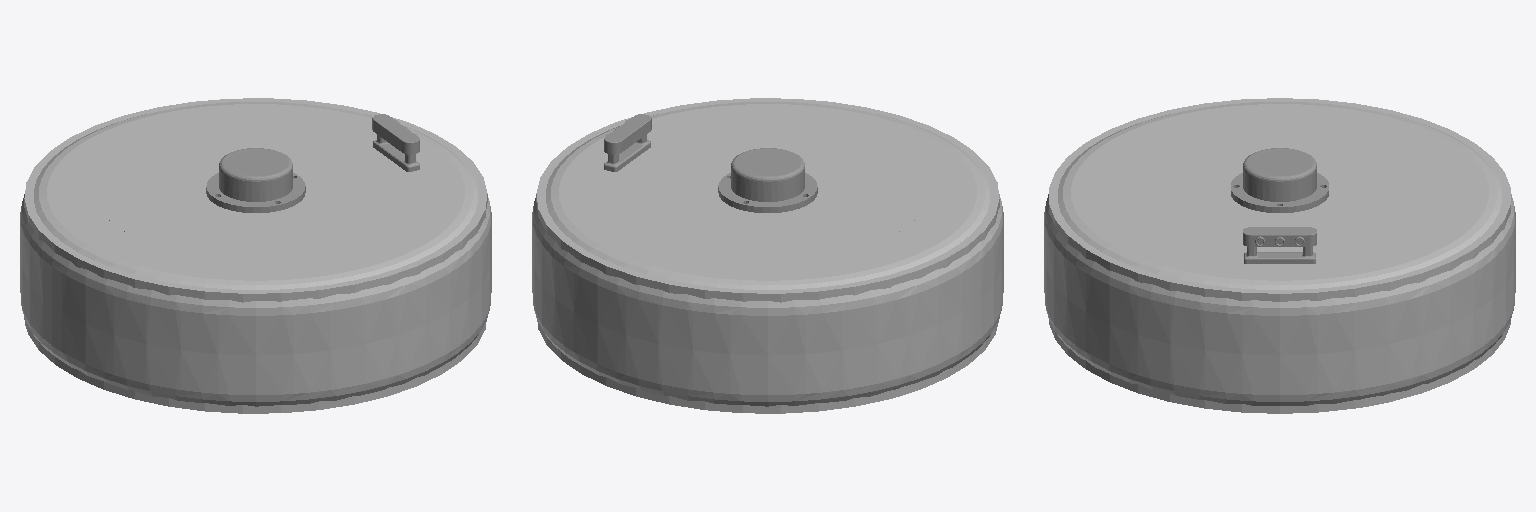
URDF robot description (rbot):
<?xml version="1.0" encoding="utf-8"?>
<!-- This URDF was automatically created by SolidWorks to URDF Exporter! Originally created by [author] ([email redacted]) 
     Commit Version: 1.6.0-4-g7f85cfe  Build Version: 1.6.7995.38578
     For more information, please see http://wiki.ros.org/sw_urdf_exporter -->
<robot
  name="rbot">
  <gazebo>
    <plugin name="gazebo_ros_control" filename="libgazebo_ros_control.so">
    <robotNamespace>rbot</robotNamespace>
    </plugin>
</gazebo>  
  <link
    name="base_link">
    <inertial>
      <origin
        xyz="0.0187713301733383 0.00149159482682281 0.0408186220208823"
        rpy="0 0 0" />
      <mass
        value="1.19458055963595" />
      <inertia
        ixx="0.0088375951796162"
        ixy="-0.000201968732235839"
        ixz="-6.70047790241051E-05"
        iyy="0.00862876123333175"
        iyz="3.90017332556839E-06"
        izz="0.0169575736226933" />
    </inertial>
    <visual>
      <origin
        xyz="0 0 0"
        rpy="0 0 0" />
      <geometry>
        <mesh
          filename="package://rbot/meshes/mainBody.STL" />
      </geometry>
      <material
        name="">
        <color
          rgba="0.752941176470588 0.752941176470588 0.752941176470588 1" />
      </material>
    </visual>
    <collision>
      <origin
        xyz="0 0 0"
        rpy="0 0 0" />
      <geometry>
        <mesh
          filename="package://rbot/meshes/base_link.STL" />
      </geometry>
    </collision>
  </link>
  <link
    name="fWheel">
    <inertial>
      <origin
        xyz="1.38777878078145E-17 -0.000452842875220746 1.73472347597681E-18"
        rpy="0 0 0" />
      <mass
        value="0.0194386045440868" />
      <inertia
        ixx="3.22964315081443E-06"
        ixy="-3.41901319855251E-23"
        ixz="1.93253301781969E-22"
        iyy="6.13530955922741E-06"
        iyz="-8.54753299638127E-24"
        izz="3.22964315081443E-06" />
    </inertial>
    <visual>
      <origin
        xyz="0 0 0"
        rpy="0 0 0" />
      <geometry>
        <mesh
          filename="package://rbot/meshes/fWheel.STL" />
      </geometry>
      <material
        name="">
        <color
          rgba="0.792156862745098 0.819607843137255 0.933333333333333 1" />
      </material>
    </visual>
    <collision>
      <origin
        xyz="0 0 0"
        rpy="0 0 0" />
      <geometry>
        <mesh
          filename="package://rbot/meshes/fWheel.STL" />
      </geometry>
    </collision>
  </link>
  <joint
    name="fWheel_bc"
    type="continuous">
    <origin
      xyz="0.118393751374048 0 0.008"
      rpy="0 0 0" />
    <parent
      link="base_link" />
    <child
      link="fWheel" />
    <axis
      xyz="0 -1 0" />
  </joint>
  <link
    name="r_rWheel">
    <inertial>
      <origin
        xyz="-1.38777878078145E-17 -0.01 1.04083408558608E-17"
        rpy="0 0 0" />
      <mass
        value="0.0561559686829175" />
      <inertia
        ixx="1.45947022774874E-05"
        ixy="-1.38966342908909E-22"
        ixz="-1.03404523593804E-21"
        iyy="2.5445673309447E-05"
        iyz="-1.37863435425505E-22"
        izz="1.45947022774874E-05" />
    </inertial>
    <visual>
      <origin
        xyz="0 0 0"
        rpy="0 0 0" />
      <geometry>
        <mesh
          filename="package://rbot/meshes/r_rWheel.STL" />
      </geometry>
      <material
        name="">
        <color
          rgba="0.792156862745098 0.819607843137255 0.933333333333333 1" />
      </material>
    </visual>
    <collision>
      <origin
        xyz="0 0 0"
        rpy="0 0 0" />
      <geometry>
        <mesh
          filename="package://rbot/meshes/r_rWheel.STL" />
      </geometry>
    </collision>
  </link>
  <joint
    name="r_rWheel_bc"
    type="continuous">
    <origin
      xyz="-0.0299768476642726 -0.0852163754058719 0.013"
      rpy="0 0 0" />
    <parent
      link="base_link" />
    <child
      link="r_rWheel" />
    <axis
      xyz="0 1 0" />
  </joint>
  <link
    name="l_rWheel">
    <inertial>
      <origin
        xyz="3.46944695195361E-18 0.01 3.46944695195361E-18"
        rpy="0 0 0" />
      <mass
        value="0.0561559686829175" />
      <inertia
        ixx="1.45947022774874E-05"
        ixy="2.7572687085101E-22"
        ixz="3.54976805058889E-22"
        iyy="2.5445673309447E-05"
        iyz="1.10290748340394E-24"
        izz="1.45947022774874E-05" />
    </inertial>
    <visual>
      <origin
        xyz="0 0 0"
        rpy="0 0 0" />
      <geometry>
        <mesh
          filename="package://rbot/meshes/l_rWheel.STL" />
      </geometry>
      <material
        name="">
        <color
          rgba="0.792156862745098 0.819607843137255 0.933333333333333 1" />
      </material>
    </visual>
    <collision>
      <origin
        xyz="0 0 0"
        rpy="0 0 0" />
      <geometry>
        <mesh
          filename="package://rbot/meshes/l_rWheel.STL" />
      </geometry>
    </collision>
  </link>
  <joint
    name="l_rWheel_bc"
    type="continuous">
    <origin
      xyz="-0.029977 0.085216 0.013"
      rpy="0 0 0" />
    <parent
      link="base_link" />
    <child
      link="l_rWheel" />
    <axis
      xyz="0 1 0" />
  </joint>
  <link
    name="Camera">
    <inertial>
      <origin
        xyz="-0.00579857980862736 -3.48054570362613E-11 0.0109497600637387"
        rpy="0 0 0" />
      <mass
        value="0.0120488103805723" />
      <inertia
        ixx="3.91378254684966E-06"
        ixy="9.50892123291639E-14"
        ixz="4.32424828665626E-09"
        iyy="9.62163619606244E-07"
        iyz="-9.92774427424775E-16"
        izz="3.30978792067785E-06" />
    </inertial>
    <visual>
      <origin
        xyz="0 0 0"
        rpy="0 0 0" />
      <geometry>
        <mesh
          filename="package://rbot/meshes/Camera.STL" />
      </geometry>
      <material
        name="">
        <color
          rgba="0.627450980392157 0.627450980392157 0.627450980392157 1" />
      </material>
    </visual>
    <collision>
      <origin
        xyz="0 0 0"
        rpy="0 0 0" />
      <geometry>
        <mesh
          filename="package://rbot/meshes/Camera.STL" />
      </geometry>
    </collision>
  </link>
  <joint
    name="Camera_tc"
    type="fixed">
    <origin
      xyz="0.12834 0 0.10965"
      rpy="0 0 0" />
    <parent
      link="base_link" />
    <child
      link="Camera" />
    <axis
      xyz="0 0 0" />
  </joint>
  <link
    name="LiDar">
    <inertial>
      <origin
        xyz="-2.06175731350525E-17 -9.22904491605984E-16 0.00611611508214088"
        rpy="0 0 0" />
      <mass
        value="0.0706251365392673" />
      <inertia
        ixx="2.10653363026546E-05"
        ixy="1.8044457921185E-23"
        ixz="2.51958351334983E-22"
        iyy="2.10653363026546E-05"
        iyz="-2.49563300857017E-23"
        izz="3.41646291354825E-05" />
    </inertial>
    <visual>
      <origin
        xyz="0 0 0"
        rpy="0 0 0" />
      <geometry>
        <mesh
          filename="package://rbot/meshes/LiDar.STL" />
      </geometry>
      <material
        name="">
        <color
          rgba="0.627450980392157 0.627450980392157 0.627450980392157 1" />
      </material>
    </visual>
    <collision>
      <origin
        xyz="0 0 0"
        rpy="0 0 0" />
      <geometry>
        <mesh
          filename="package://rbot/meshes/LiDar.STL" />
      </geometry>
    </collision>
  </link>
  <joint
    name="LiDar_tc"
    type="fixed">
    <origin
      xyz="0 0 0.111"
      rpy="0 0 0" />
    <parent
      link="base_link" />
    <child
      link="LiDar" />
    <axis
      xyz="0 0 0" />
  </joint>
  <transmission name="tran1">
    <type>transmission_interface/SimpleTransmission</type>
    <joint name="fWheel_bc">
        <hardwareInterface>EffortJointInterface</hardwareInterface>
    </joint>
    <actuator name="fWheel_bc_motor">
        <hardwareInterface>EffortJointInterface</hardwareInterface>
        <mechanicalReduction>1</mechanicalReduction>
    </actuator>
</transmission>
<transmission name="tran2">
    <type>transmission_interface/SimpleTransmission</type>
    <joint name="r_rWheel_bc">
        <hardwareInterface>EffortJointInterface</hardwareInterface>
    </joint>
    <actuator name="r_rWheel_bc_motor">
        <hardwareInterface>EffortJointInterface</hardwareInterface>
        <mechanicalReduction>1</mechanicalReduction>
    </actuator>
</transmission>
<transmission name="tran3">
    <type>transmission_interface/SimpleTransmission</type>
    <joint name="l_rWheel_bc">
        <hardwareInterface>EffortJointInterface</hardwareInterface>
    </joint>
    <actuator name="l_rWheel_bc_motor">
        <hardwareInterface>EffortJointInterface</hardwareInterface>
        <mechanicalReduction>1</mechanicalReduction>
    </actuator>
</transmission>

  <gazebo reference="Camera">
    <sensor type="camera" name="camera1">
      <update_rate>30.0</update_rate>
      <camera name="head">
        <horizontal_fov>1.3962634</horizontal_fov>
        <image>
          <width>800</width>
          <height>800</height>
          <format>R8G8B8</format>
        </image>
        <clip>
          <near>0.02</near>
          <far>300</far>
        </clip>
        <noise>
          <type>gaussian</type>
          <!-- Noise is sampled independently per pixel on each frame.
               That pixel's noise value is added to each of its color
               channels, which at that point lie in the range [0,1]. -->
          <mean>0.0</mean>
          <stddev>0.007</stddev>
        </noise>
      </camera>
      <plugin name="camera_controller" filename="libgazebo_ros_camera.so">
        <alwaysOn>true</alwaysOn>
        <updateRate>0.0</updateRate>
        <cameraName>gazebo_demo/camera</cameraName>
        <imageTopicName>image_raw</imageTopicName>
        <cameraInfoTopicName>camera_info</cameraInfoTopicName>
        <frameName>Camera</frameName>
        <hackBaseline>0.07</hackBaseline>
        <distortionK1>0.0</distortionK1>
        <distortionK2>0.0</distortionK2>
        <distortionK3>0.0</distortionK3>
        <distortionT1>0.0</distortionT1>
        <distortionT2>0.0</distortionT2>
      </plugin>
    </sensor>
  </gazebo>
  <!-- hokuyo -->
  <gazebo reference="LiDar">
    <sensor type="gpu_ray" name="head_hokuyo_sensor">
      <pose>0 0 0 0 0 3.14</pose>
      <visualize>false</visualize>
      <update_rate>40</update_rate>
      <ray>
        <scan>
          <horizontal>
            <samples>720</samples>
            <resolution>1</resolution>
            <min_angle>-3.14</min_angle>
            <max_angle>3.14</max_angle>
          </horizontal>
        </scan>
        <range>
          <min>0.10</min>
          <max>30.0</max>
          <resolution>0.01</resolution>
        </range>
        <noise>
          <type>gaussian</type>
          <!-- Noise parameters based on published spec for Hokuyo laser
               achieving "+-30mm" accuracy at range < 10m.  A mean of 0.0m and
               stddev of 0.01m will put 99.7% of samples within 0.03m of the true
               reading. -->
          <mean>0.0</mean>
          <stddev>0.01</stddev>
        </noise>
      </ray>
      <plugin name="gazebo_ros_head_hokuyo_controller" filename="libgazebo_ros_gpu_laser.so">
        <topicName>/scan</topicName>
        <frameName>LiDar</frameName>
      </plugin>
    </sensor>
  </gazebo>
  <gazebo>
  <plugin name="differential_drive_controller" filename="libgazebo_ros_diff_drive.so">

    <!-- Plugin update rate in Hz -->
    <updateRate>30</updateRate>

    <!-- Name of left joint, defaults to `left_joint` -->
    <leftJoint>l_rWheel_bc</leftJoint>

    <!-- Name of right joint, defaults to `right_joint` -->
    <rightJoint>r_rWheel_bc</rightJoint>

    <!-- The distance from the center of one wheel to the other, in meters, defaults to 0.34 m -->
    <wheelSeparation>0.20</wheelSeparation>

    <!-- Diameter of the wheels, in meters, defaults to 0.15 m -->
    <wheelDiameter>0.06</wheelDiameter>

    <!-- Wheel acceleration, in rad/s^2, defaults to 0.0 rad/s^2 -->
    <wheelAcceleration>1.0</wheelAcceleration>

    <!-- Maximum torque which the wheels can produce, in Nm, defaults to 5 Nm -->
    <wheelTorque>20</wheelTorque>

    <!-- Topic to receive geometry_msgs/Twist message commands, defaults to `cmd_vel` -->
    <commandTopic>cmd_vel</commandTopic>

    <!-- Topic to publish nav_msgs/Odometry messages, defaults to `odom` -->
    <odometryTopic>odom</odometryTopic>

    <!-- Odometry frame, defaults to `odom` -->
    <odometryFrame>odom</odometryFrame>

    <!-- Robot frame to calculate odometry from, defaults to `base_footprint` -->
    <robotBaseFrame>base_link</robotBaseFrame>

    <!-- Odometry source, 0 for ENCODER, 1 for WORLD, defaults to WORLD -->
    <odometrySource>0</odometrySource>

    <!-- Set to true to publish transforms for the wheel links, defaults to false -->
    <publishWheelTF>true</publishWheelTF>

    <!-- Set to true to publish transforms for the odometry, defaults to true -->
    <publishOdom>true</publishOdom>

    <!-- Set to true to publish sensor_msgs/JointState on /joint_states for the wheel joints, defaults to false -->
    <publishWheelJointState>true</publishWheelJointState>

    <!-- Set to true to swap right and left wheels, defaults to true -->
    <legacyMode>false</legacyMode>
  </plugin>
</gazebo>
  <joint name="imu_joint" type="fixed">
      <axis xyz="0 0 1" />
      <origin xyz="0 0 0.015" rpy="0 0 0"/>
      <parent link="base_link"/>
      <child link="imu_link"/>
  </joint>
  <!-- Imu Link-->
  <link name="imu_link">
        <collision>
            <origin xyz="0 0 0" rpy="0 0 0"/>
            <geometry>
                <box size="0.01 0.01 0.01"/>
            </geometry>
        </collision>
        <visual>
            <origin xyz="0 0 0" rpy="0 0 0"/>
            <geometry>
                <box size="0.01 0.01 0.01"/>
            </geometry>
        </visual>
        <inertial>
            <mass value="0.001" />
            <origin xyz="0 0 0" rpy="0 0 0"/>
            <inertia ixx="0.00000015" ixy="0" ixz="0" iyy="0.00000015" iyz="0" izz="0.00000015" />
        </inertial>
  </link>
  <!--IMU Link gazebo plugin-->
  <gazebo reference="imu_link">
    <gravity>true</gravity>
    <sensor name="imu_sensor" type="imu">
      <always_on>true</always_on>
      <update_rate>100</update_rate>
      <visualize>true</visualize>
      <topic>__default_topic__</topic>
      <plugin filename="libgazebo_ros_imu_sensor.so" name="imu_plugin">
        <topicName>/imu</topicName>
        <bodyName>imu_link</bodyName>
        <updateRateHZ>100.0</updateRateHZ>
        <gaussianNoise>0.0</gaussianNoise>
        <xyzOffset>0 0 0</xyzOffset>
        <rpyOffset>0 0 0</rpyOffset>
        <frameName>imu_link</frameName>
        <initialOrientationAsReference>false</initialOrientationAsReference>
      </plugin>
      <pose>0 0 0 0 0 0</pose>
    </sensor>
  </gazebo>
</robot>

--- Render facts (derived) ---
The picture shows the robot from 3 angles, left to right: view 1: azimuth 30°, elevation 25°; view 2: azimuth 150°, elevation 25°; view 3: azimuth 270°, elevation 25°; orthographic projection.
Model rbot with 7 links and 6 joints (3 continuous, 3 fixed), rooted at base_link, posed every joint at zero.
Links seen in each view (by area): view 1: base_link, LiDar, Camera; view 2: base_link, LiDar, Camera; view 3: base_link, LiDar, Camera.
Link boxes in pixels (x1,y1,x2,y2): base_link: [20, 98, 491, 413]; LiDar: [206, 148, 305, 212]; Camera: [372, 114, 419, 171]; base_link: [532, 98, 1003, 413]; LiDar: [718, 148, 817, 212]; Camera: [604, 114, 651, 171]; base_link: [1044, 98, 1515, 413]; LiDar: [1231, 148, 1328, 212]; Camera: [1243, 227, 1316, 263].
Bounding box of the posed robot: 0.356 × 0.3557 × 0.148 m (x, y, z).
6 mesh visuals loaded from 6 distinct referenced files (6 binary STL).